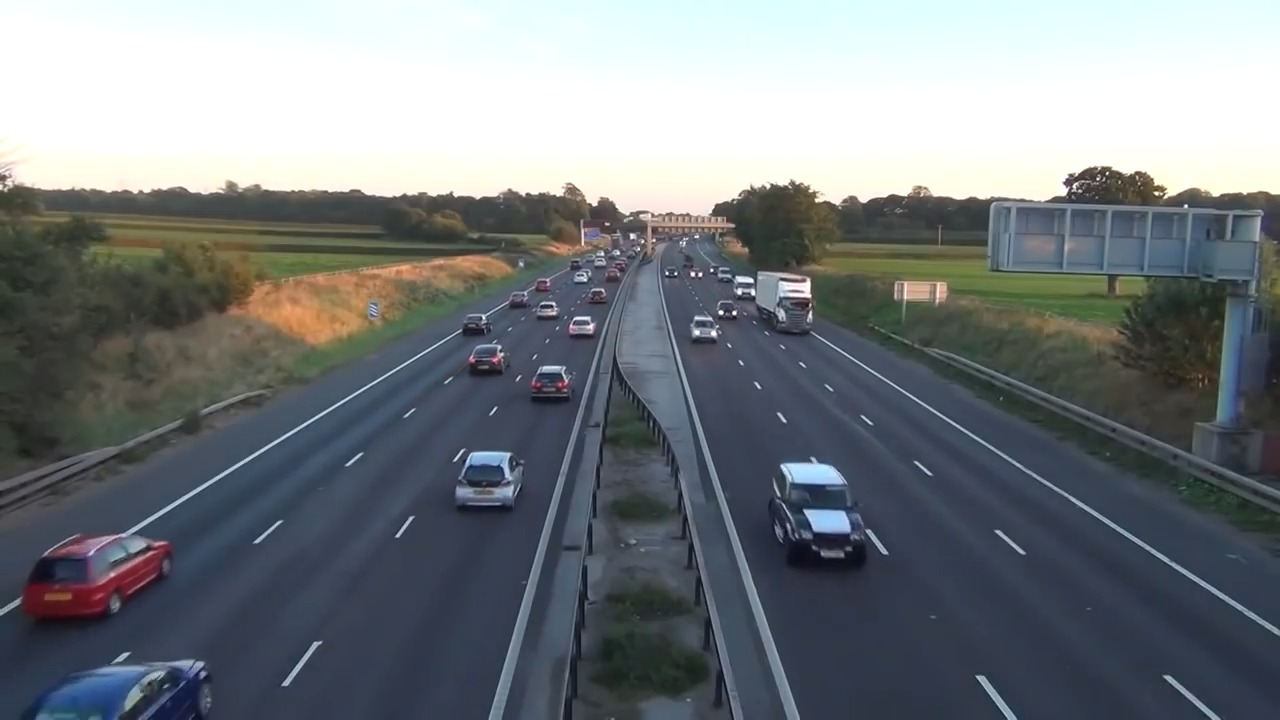truck: (754, 267, 818, 335)
